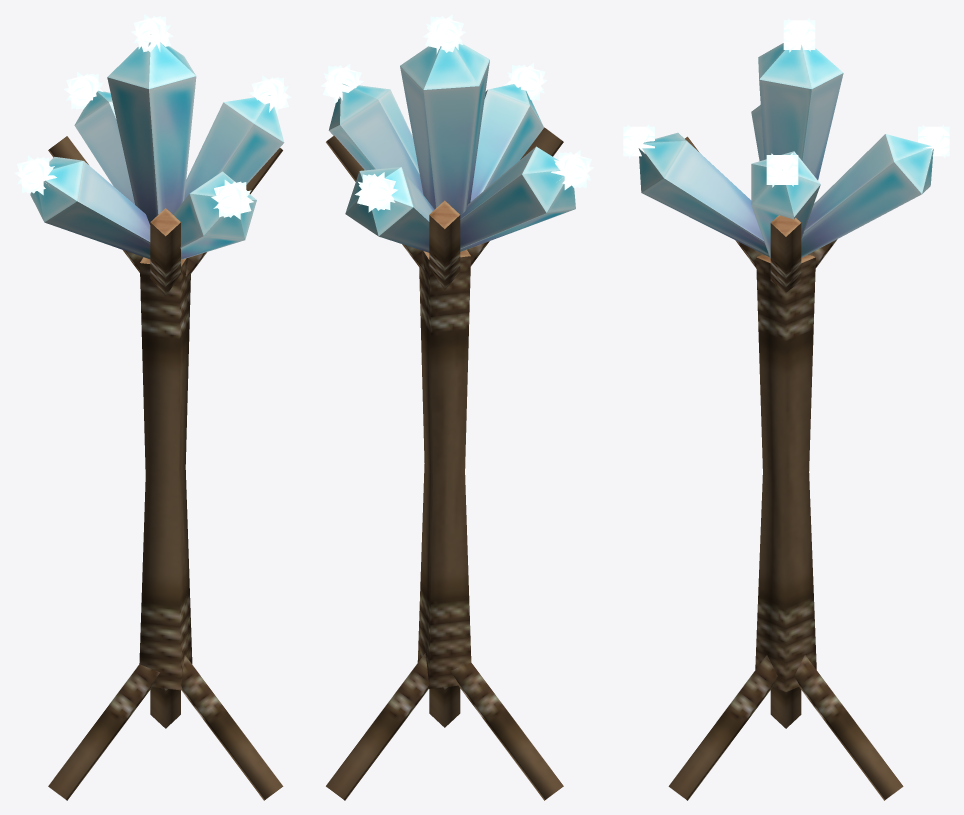
Rendered from a_SWFlamp01.glb.
3 renders of one model, left to right at view 1: azimuth 30°, elevation 25°; view 2: azimuth 150°, elevation 25°; view 3: azimuth 270°, elevation 25°, orthographic.
Parts seen in each view (by area): view 1: a_SWFlamp01; view 2: a_SWFlamp01; view 3: a_SWFlamp01.
Part boxes in pixels (left/top/right/bottom): a_SWFlamp01: left=14, top=14, right=291, bottom=800; a_SWFlamp01: left=321, top=14, right=593, bottom=800; a_SWFlamp01: left=623, top=18, right=949, bottom=800.
Bounding box in the file's own units: 0.5845 × 1.62 × 0.6378.
Materials: 3 (3 with a texture image).
